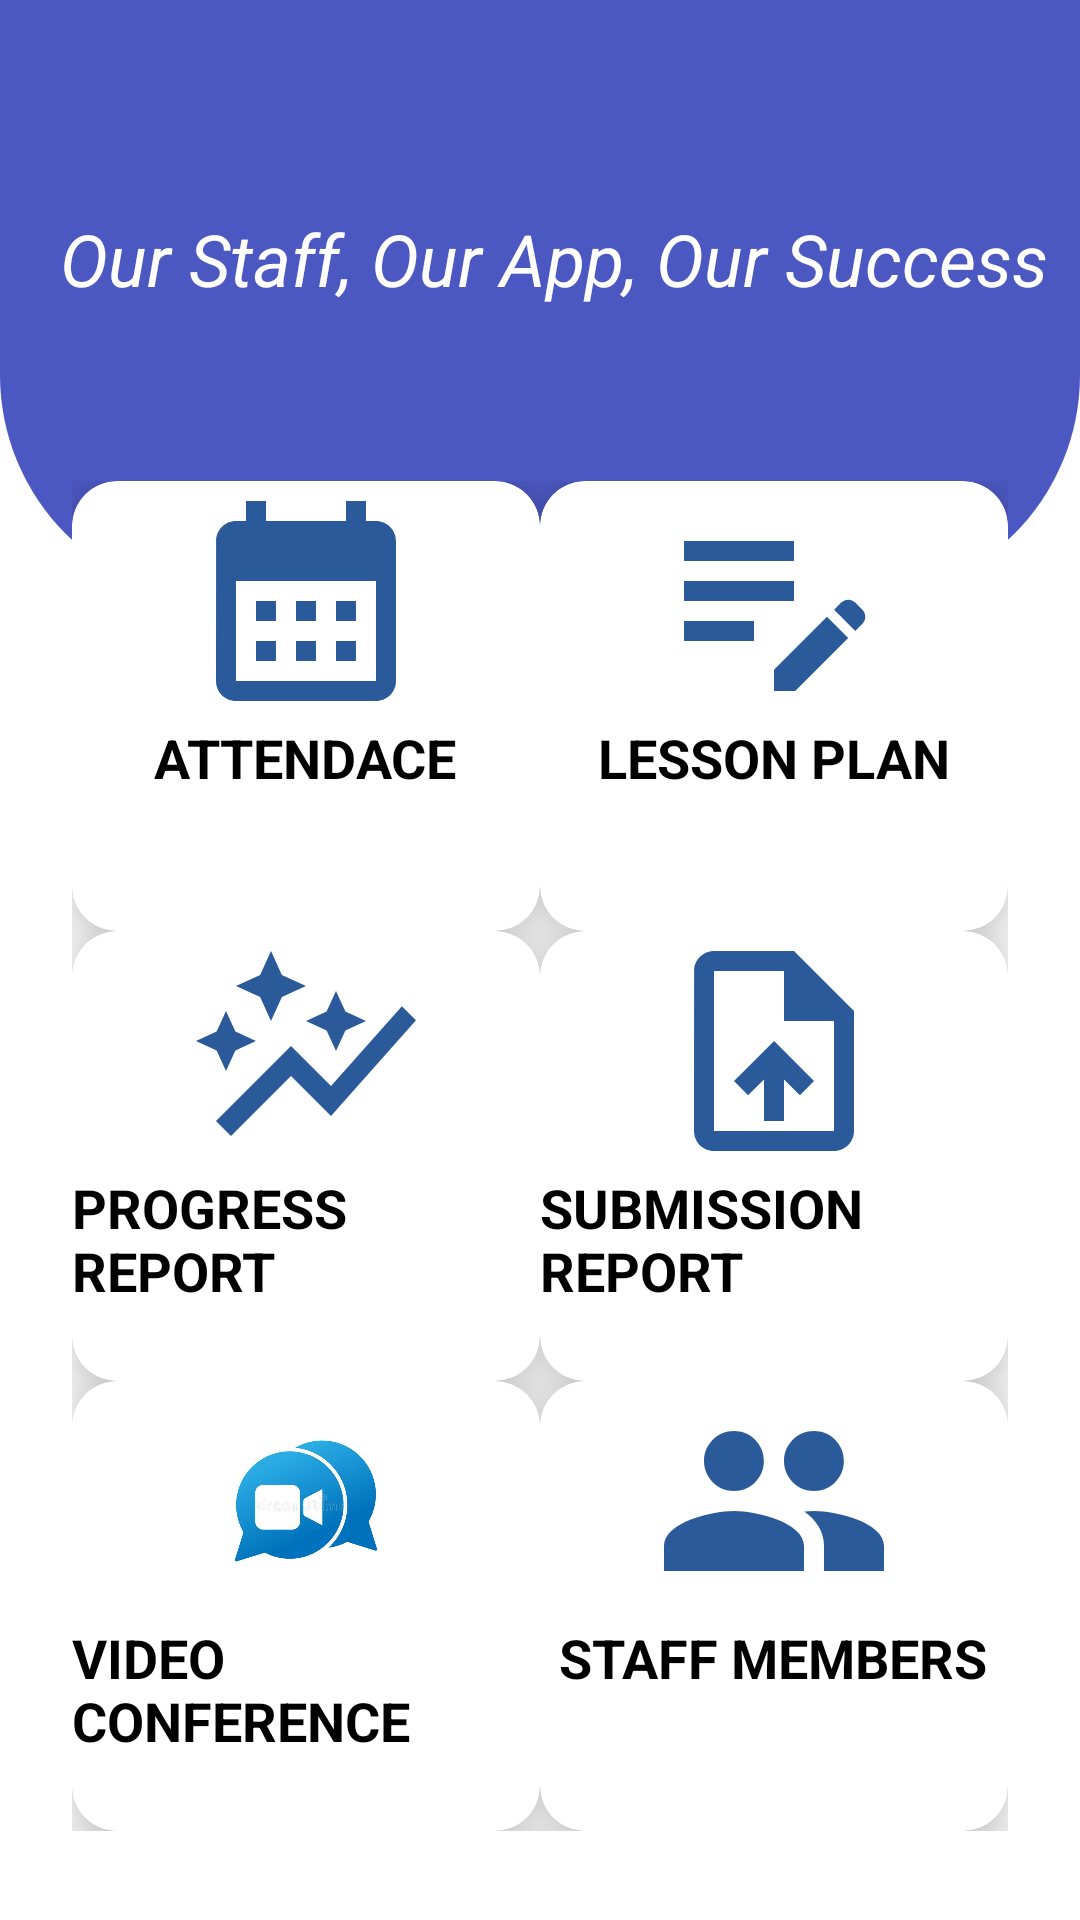

Point at icon controls on the screen. Image size 1080×1920, points as point (x, y).
videocall: point (306, 1501)
